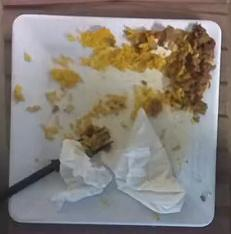rice_mix: (82, 23, 215, 116)
